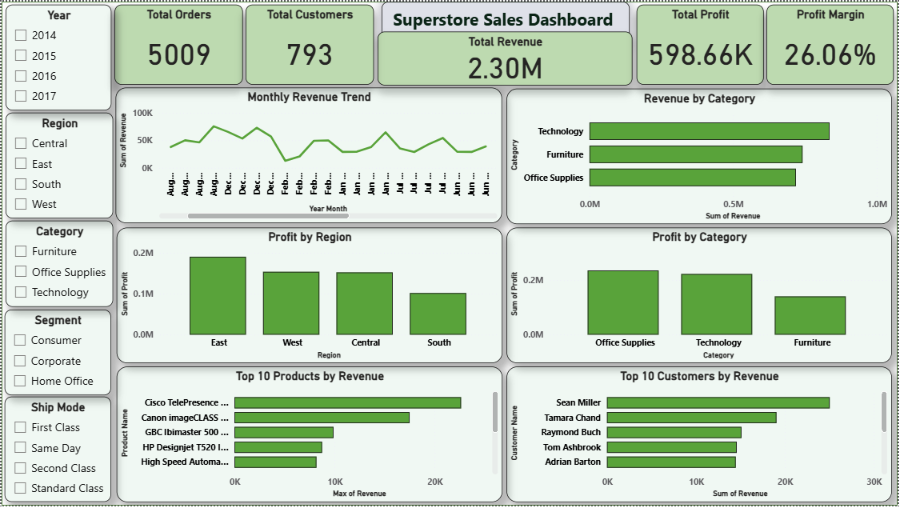

The page's visual inventory and layout, read from the dashboard file:
{"tool":"powerbi","page":{"name":"Page 1","canvas":[1280,720],"ordinal":0},"visuals":[{"type":"shape","box":[0,0,1280,720],"z":0},{"type":"textbox","box":[542.9,0,354.3,61.4],"z":1000},{"type":"card","title":"Total Revenue","fields":{"Values":["Sum(Cleaned Superstore Data.Revenue)"]},"box":[537.1,42.9,364.3,77.1],"z":2000},{"type":"card","title":"Total Profit","fields":{"Values":["Sum(Cleaned Superstore Data.Profit)"]},"box":[907.1,4.3,181.4,114.3],"z":3000},{"type":"card","title":"Total Orders","fields":{"Values":["Count(Cleaned Superstore Data.Order ID)"]},"box":[161.4,4.3,182.9,114.3],"z":4000},{"type":"card","title":"Total Customers","fields":{"Values":["Count(Cleaned Superstore Data.Customer ID)"]},"box":[348.6,4.3,182.9,114.3],"z":5000},{"type":"card","title":"Profit Margin","fields":{"Values":["Cleaned Superstore Data.Profit Margin"]},"box":[1092.9,4.3,181.4,114.3],"z":6000},{"type":"lineChart","title":"Monthly Revenue Trend","fields":{"Y":["Sum(Cleaned Superstore Data.Revenue)"],"Category":["Cleaned Superstore Data.Year Month"]},"box":[163.3,123.3,551.7,193.3],"z":7000},{"type":"slicer","title":"Region","fields":{"Values":["Cleaned Superstore Data.Region"]},"box":[5,158.8,153.8,151.2],"z":8000},{"type":"slicer","title":"Category","fields":{"Values":["Cleaned Superstore Data.Category"]},"box":[5,313.3,153.3,123.3],"z":9000},{"type":"slicer","title":"Segment","fields":{"Values":["Cleaned Superstore Data.Segment"]},"box":[4.9,440.2,151.6,122.3],"z":10000},{"type":"slicer","title":"Year","fields":{"Values":["Cleaned Superstore Data.Year"]},"box":[6.2,3.8,151.2,151.2],"z":11000},{"type":"slicer","title":"Ship Mode","fields":{"Values":["Cleaned Superstore Data.Ship Mode"]},"box":[4.9,564.9,151.6,150.4],"z":12000},{"type":"barChart","title":"Revenue by Category","fields":{"Category":["Cleaned Superstore Data.Category"],"Y":["Sum(Cleaned Superstore Data.Revenue)"]},"box":[721.2,123.8,550,193.8],"z":13000},{"type":"columnChart","title":"Profit by Region","fields":{"Y":["Sum(Cleaned Superstore Data.Profit)"],"Category":["Cleaned Superstore Data.Region"]},"box":[163.8,322.5,551.2,193.8],"z":14000},{"type":"columnChart","title":"Profit by Category","fields":{"Y":["Sum(Cleaned Superstore Data.Profit)"],"Category":["Cleaned Superstore Data.Category"]},"box":[721.2,322.5,550,193.8],"z":15000},{"type":"clusteredBarChart","title":"Top 10 Products by Revenue","fields":{"Category":["Cleaned Superstore Data.Product Name"],"Y":["Max(Cleaned Superstore Data.Revenue)"]},"box":[163.8,521.2,551.2,193.8],"z":16000},{"type":"clusteredBarChart","title":"Top 10 Customers by Revenue","fields":{"Category":["Cleaned Superstore Data.Customer Name"],"Y":["Sum(Cleaned Superstore Data.Revenue)"]},"box":[721.2,521.2,550,193.8],"z":17000}]}

Visuals, with their boxes in screenshot pixels (x1, y1, x2, y2), scaled from the page's 1280x720 canvas onto the 900x507 screenshot:
shape: <bbox>0, 0, 899, 506</bbox>
textbox: <bbox>382, 0, 631, 43</bbox>
"Total Revenue" card: <bbox>378, 30, 634, 84</bbox>
"Total Profit" card: <bbox>638, 3, 765, 84</bbox>
"Total Orders" card: <bbox>113, 3, 242, 84</bbox>
"Total Customers" card: <bbox>245, 3, 374, 84</bbox>
"Profit Margin" card: <bbox>768, 3, 896, 84</bbox>
"Monthly Revenue Trend" lineChart: <bbox>115, 87, 503, 223</bbox>
"Region" slicer: <bbox>4, 112, 112, 218</bbox>
"Category" slicer: <bbox>4, 221, 111, 307</bbox>
"Segment" slicer: <bbox>3, 310, 110, 396</bbox>
"Year" slicer: <bbox>4, 3, 111, 109</bbox>
"Ship Mode" slicer: <bbox>3, 398, 110, 504</bbox>
"Revenue by Category" barChart: <bbox>507, 87, 894, 224</bbox>
"Profit by Region" columnChart: <bbox>115, 227, 503, 364</bbox>
"Profit by Category" columnChart: <bbox>507, 227, 894, 364</bbox>
"Top 10 Products by Revenue" clusteredBarChart: <bbox>115, 367, 503, 503</bbox>
"Top 10 Customers by Revenue" clusteredBarChart: <bbox>507, 367, 894, 503</bbox>
